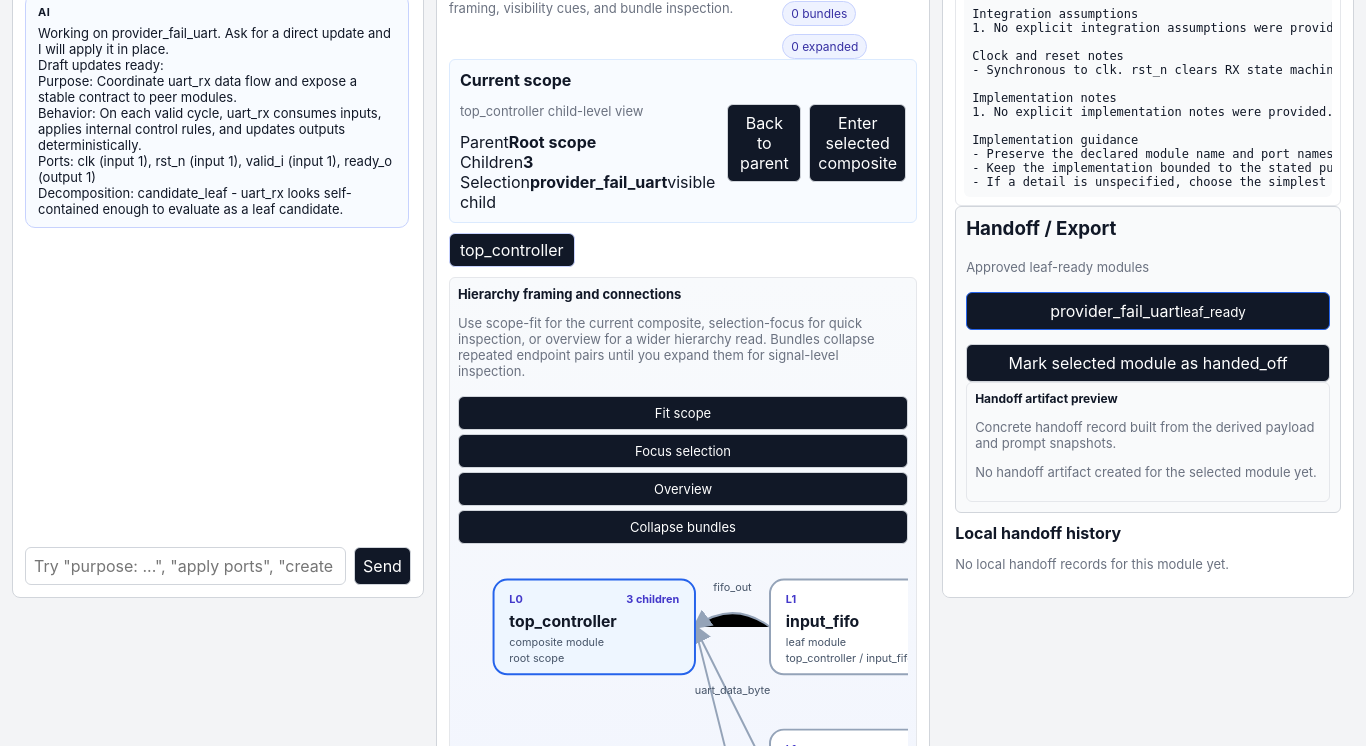
review/handoff UI flow › renders provider failure state separately from the prepared artifact snapshot
(page scrolled)
Click the button "Mark selected module as handed_off": (1148, 363) [966,344,1330,382]
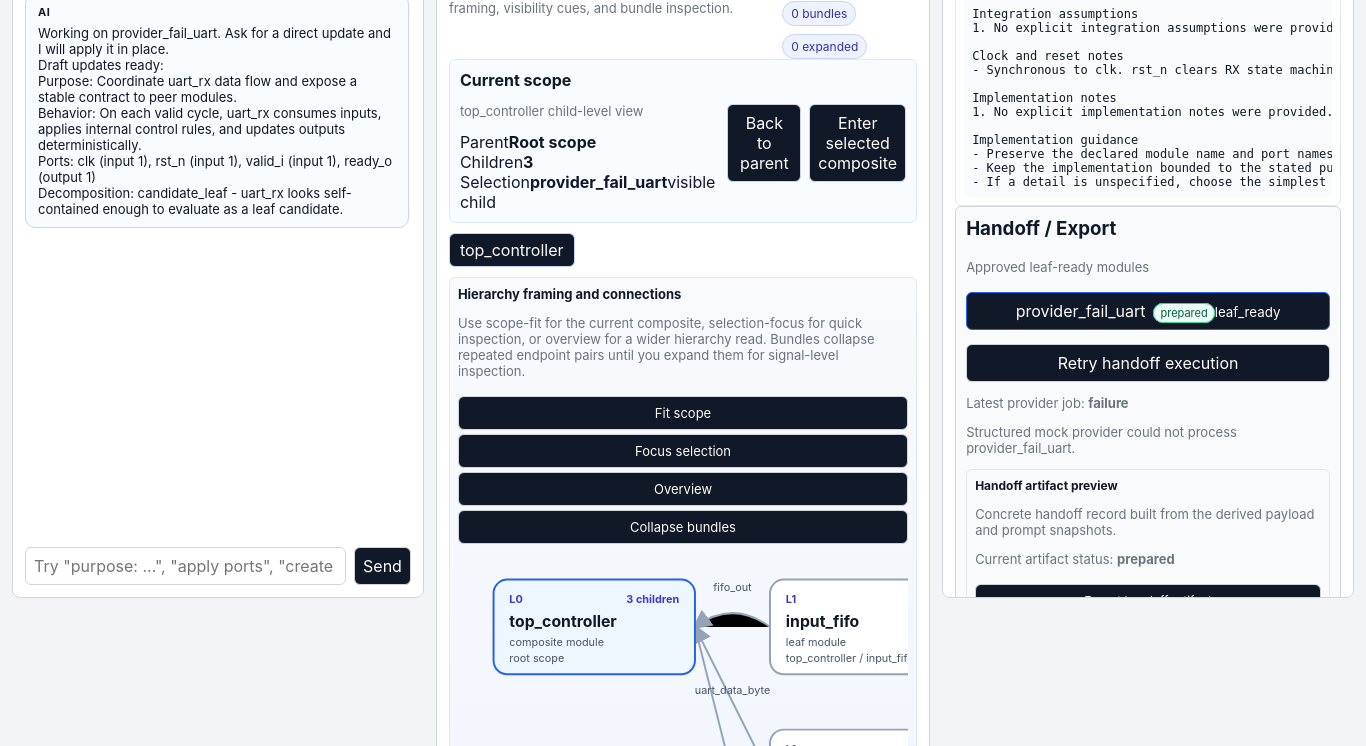
Expected: the text "Latest provider job: failure" is shown, [966,395,1129,411]
Expected: the text "Structured mock provider could not process provider_fail_uart" is shown, [966,424,1237,456]
Expected: the text "Current artifact status: prepared" is shown, [975,551,1175,567]
